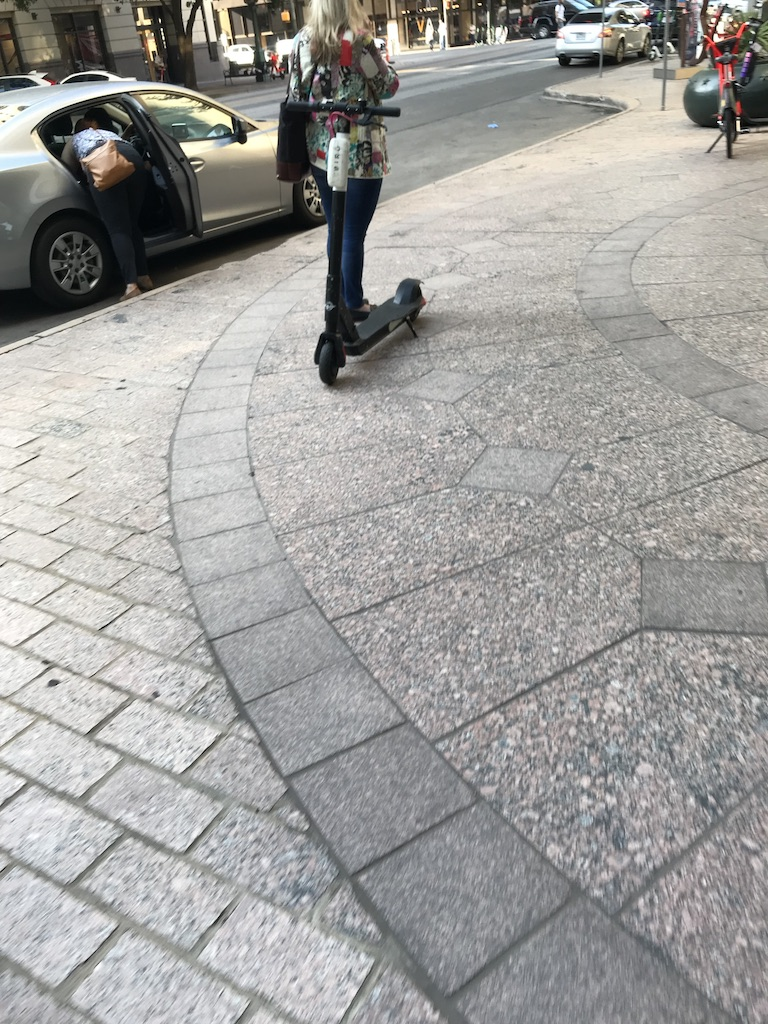scooter: (287, 98, 427, 386)
